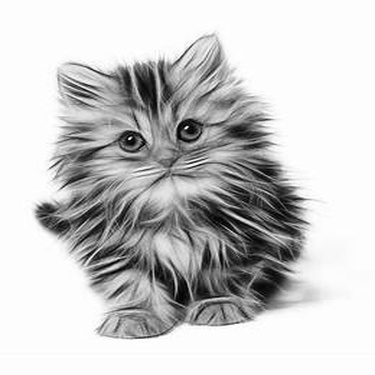cat: (30, 29, 309, 342)
